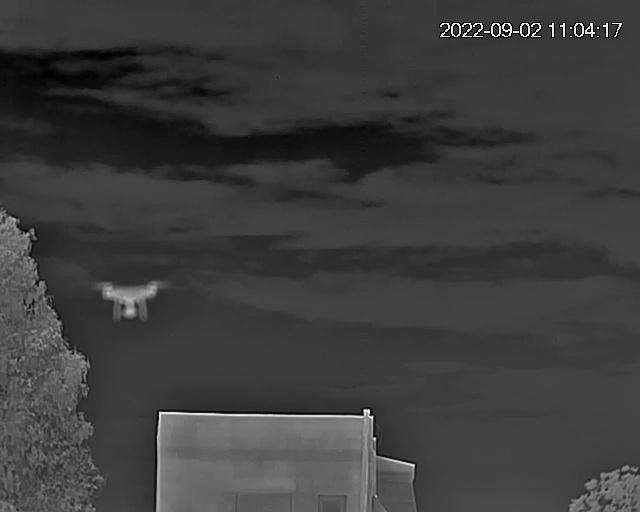DJI-Phantom: (91, 284, 175, 322)
